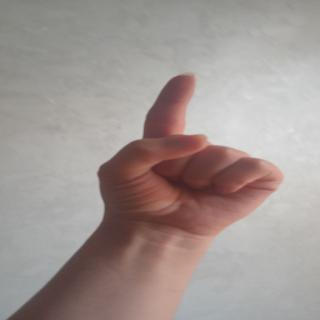BAA: (63, 68, 289, 249)
